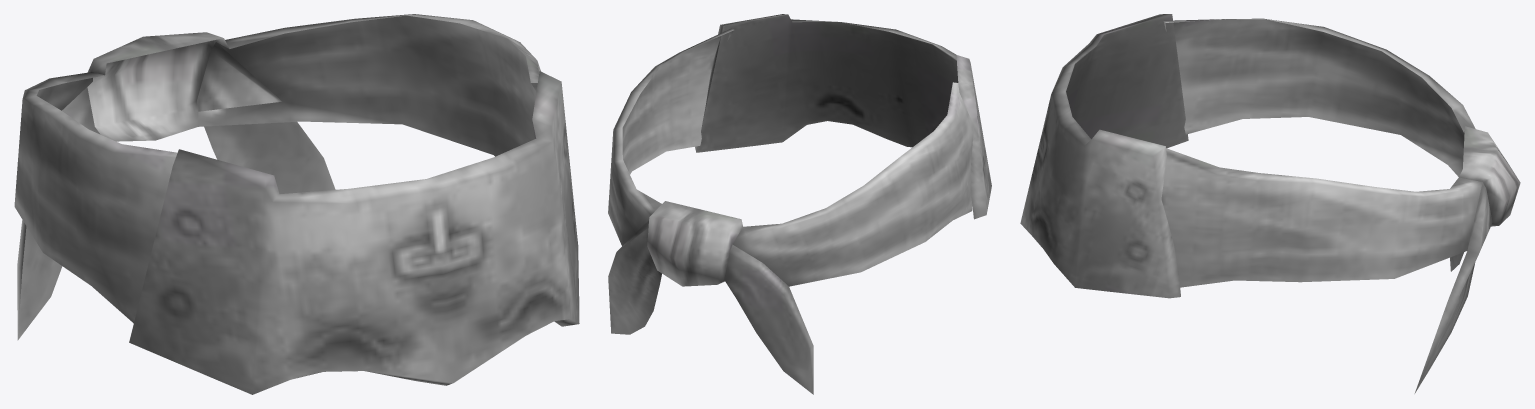
The model's file is rider-helmet-slice-base.glb.
3 views of the same model, side by side, from view 1: azimuth 30°, elevation 25°; view 2: azimuth 150°, elevation 25°; view 3: azimuth 270°, elevation 25° (orthographic). The views are drawn at different scales.
Size of the model in its own units: 0.2138 by 0.1557 by 0.279.
Materials: 1 (1 with a texture image).
